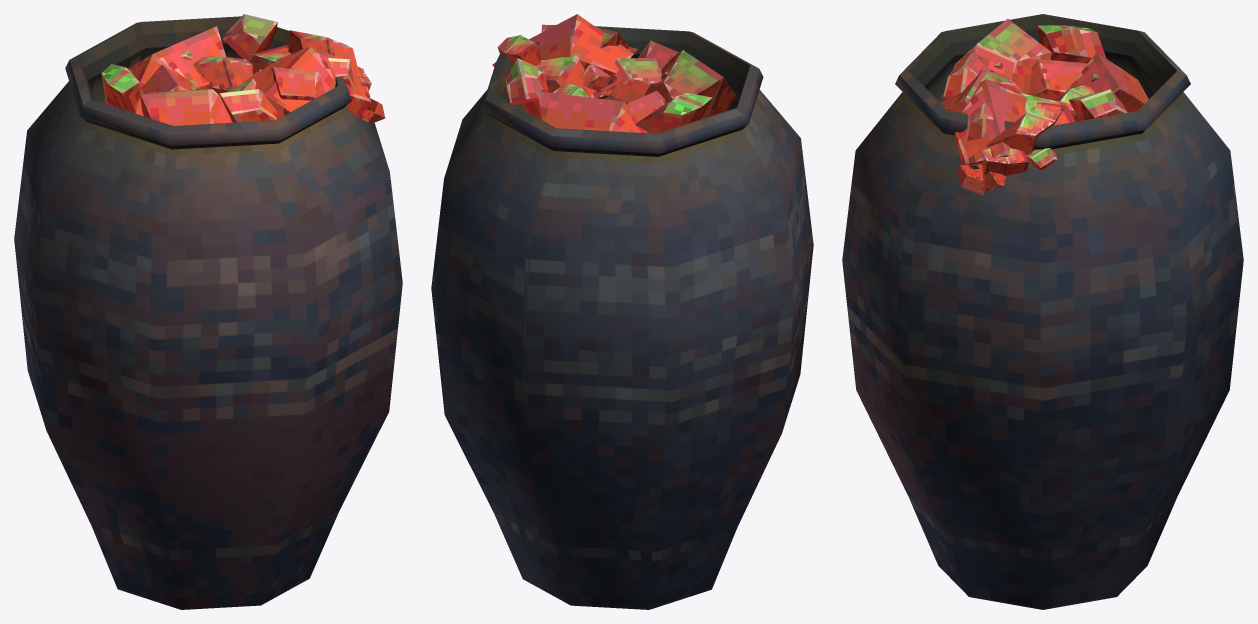
Rendered from joseonpotC.fbx.
3 renders of one model, left to right at view 1: azimuth 30°, elevation 25°; view 2: azimuth 150°, elevation 25°; view 3: azimuth 270°, elevation 25°, orthographic.
Parts seen in each view (by area): view 1: joseonpotC; view 2: joseonpotC; view 3: joseonpotC.
Boxes of the visible parts, left/top/right/bottom form: joseonpotC: left=14, top=14, right=402, bottom=609; joseonpotC: left=431, top=14, right=813, bottom=609; joseonpotC: left=842, top=14, right=1243, bottom=609.
Bounding box in the file's own units: 91.67 × 132 × 91.67.
